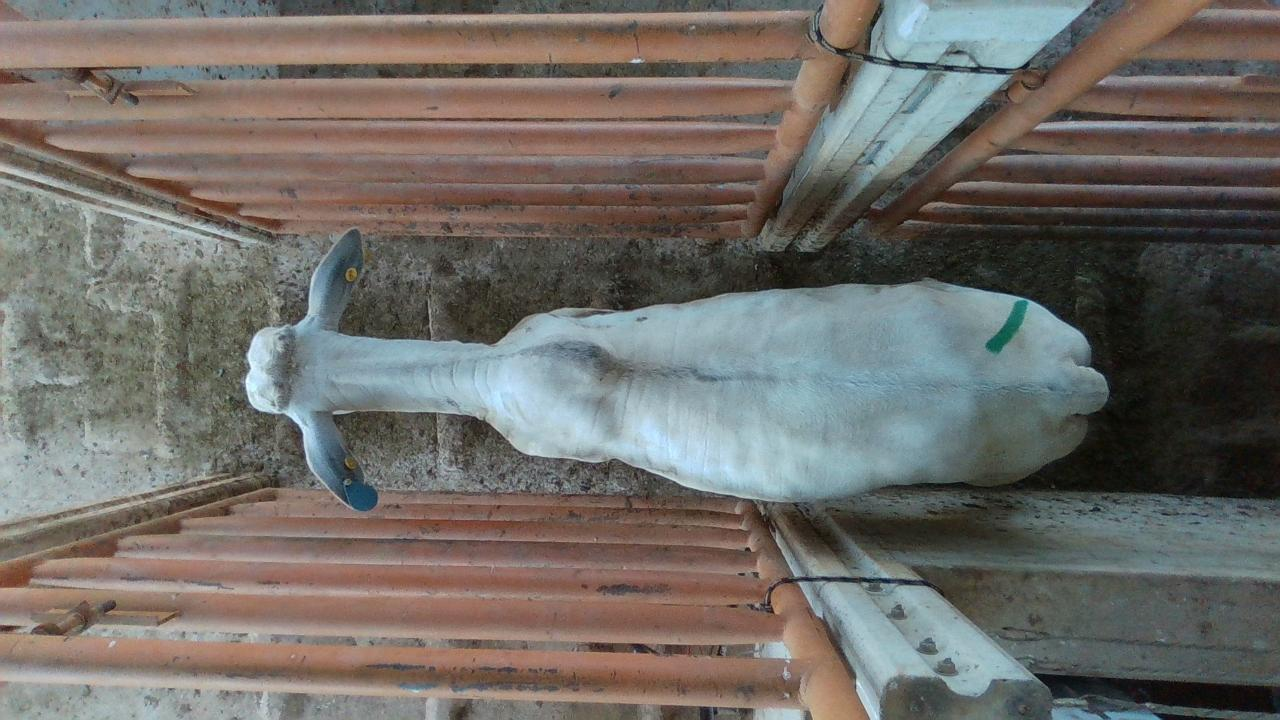cattle: (242, 226, 1110, 510)
